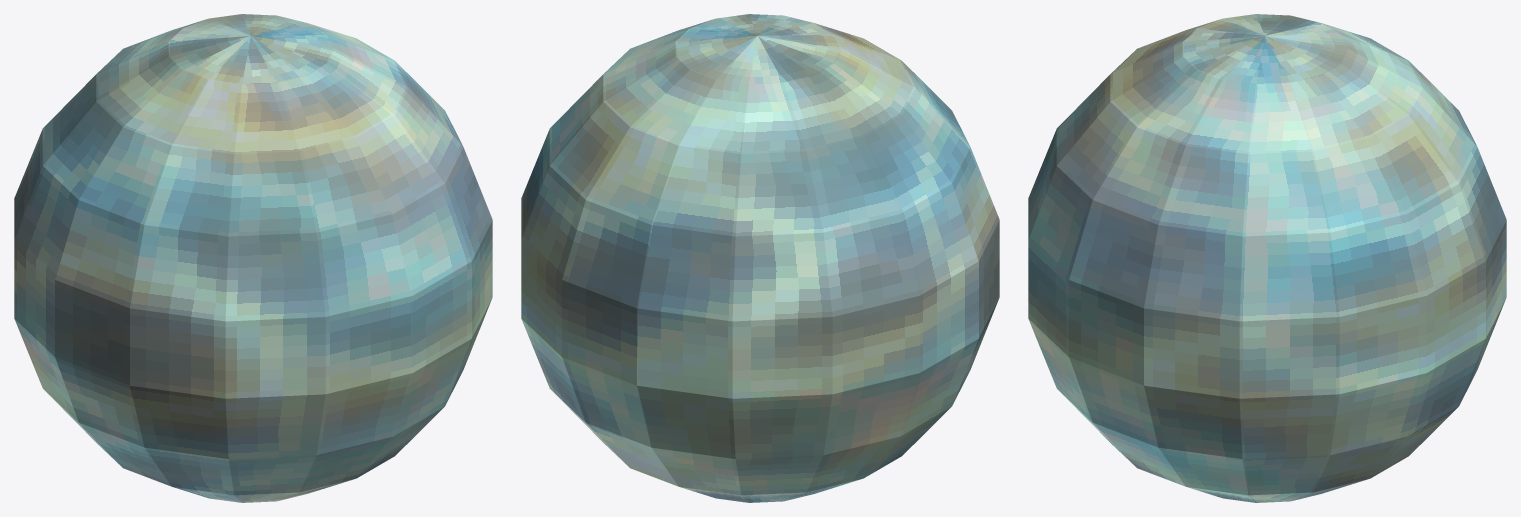
Rendered from reactor_shield.obj.
The picture shows the model from 3 angles, left to right: view 1: azimuth 30°, elevation 25°; view 2: azimuth 150°, elevation 25°; view 3: azimuth 270°, elevation 25°; orthographic projection.
Parts seen in each view (by area): view 1: shield; view 2: shield; view 3: shield.
Boxes of the visible parts, <box> form: shield: <box>14,14,492,502</box>; shield: <box>521,14,999,502</box>; shield: <box>1028,14,1506,502</box>.
Size of the model in its own units: 1.96 by 2 by 1.95.
